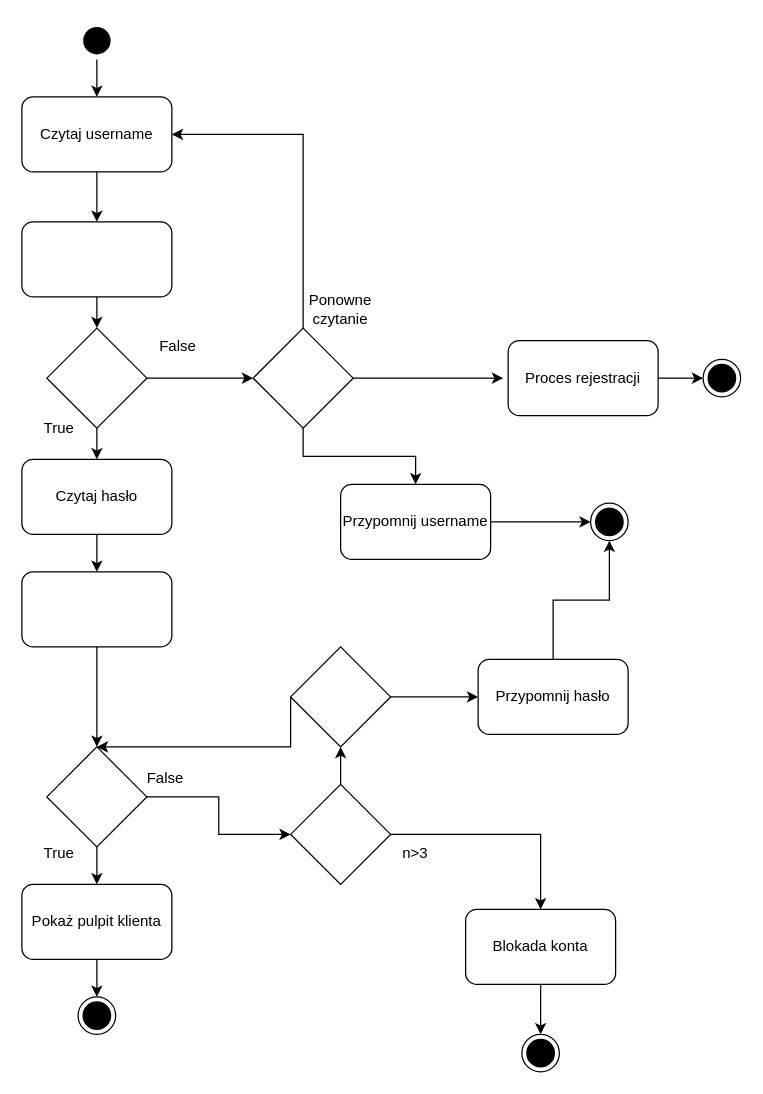
Some shapes in this 763 by 1094 pixel diagram are drawn without their labels. Each missing label, with the centre of its shape:
n<3: (x=340, y=833)
Weryfikuj hasło: (x=96, y=609)
Weryfikuj username: (x=96, y=259)
